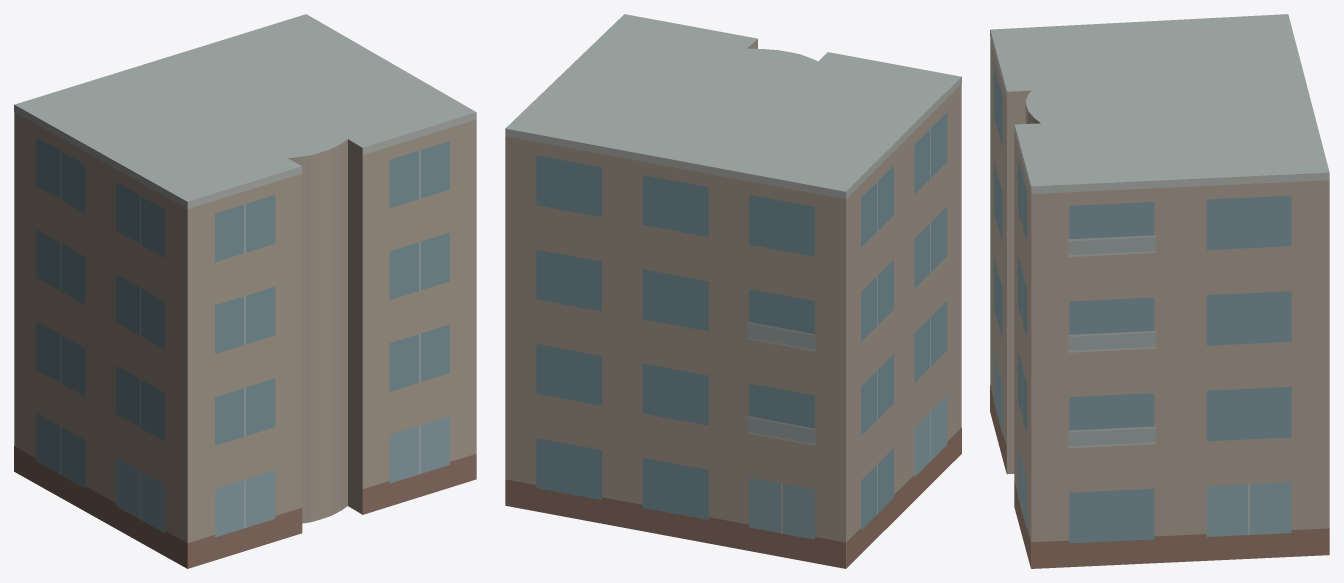
Rendered from survey-upis-33037587.glb.
The picture shows the model from 3 angles, left to right: view 1: azimuth 30°, elevation 25°; view 2: azimuth 150°, elevation 25°; view 3: azimuth 270°, elevation 25°; orthographic projection. The views are drawn at different scales.
Visible parts, largest first — view 1: survey-upis-33037587.tmp; view 2: survey-upis-33037587.tmp; view 3: survey-upis-33037587.tmp.
Boxes of the visible parts, <box> form: survey-upis-33037587.tmp: <box>14,14,476,568</box>; survey-upis-33037587.tmp: <box>505,14,961,568</box>; survey-upis-33037587.tmp: <box>990,14,1329,568</box>.
Bounding box in the file's own units: 11.9 × 12.3 × 9.9.
